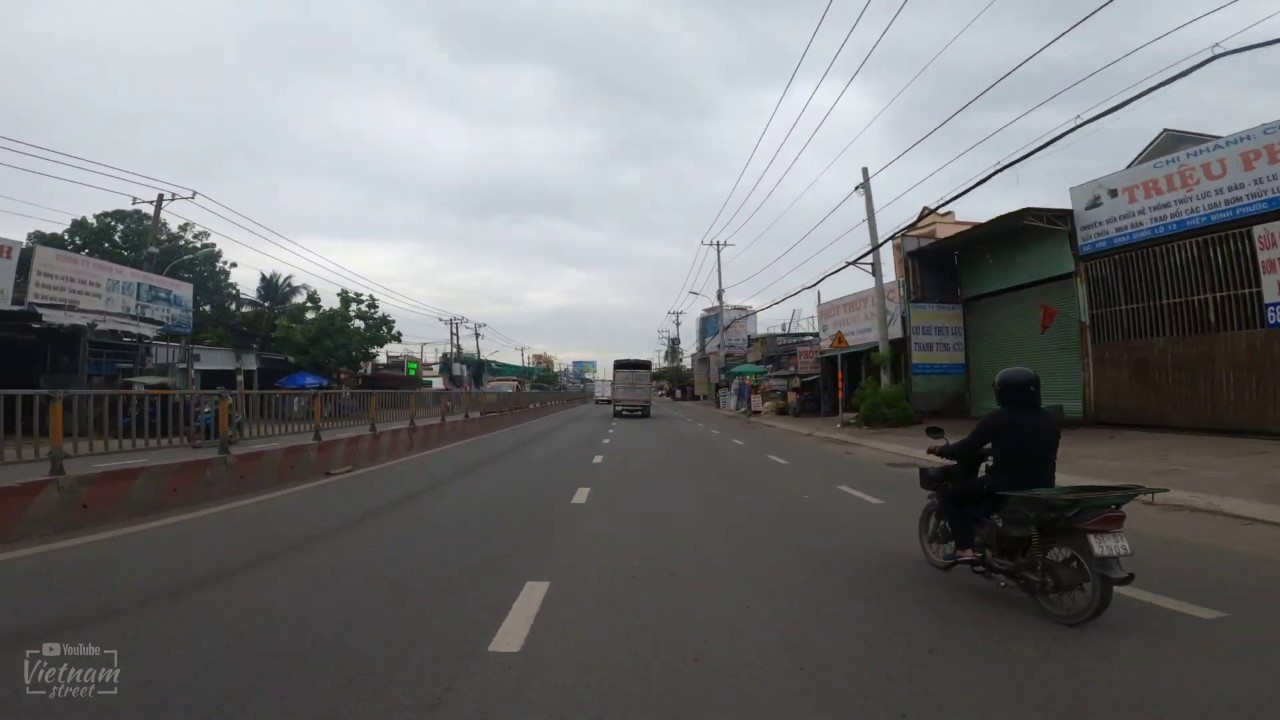giao_khong_uu_tien_phai: (829, 330, 850, 349)
